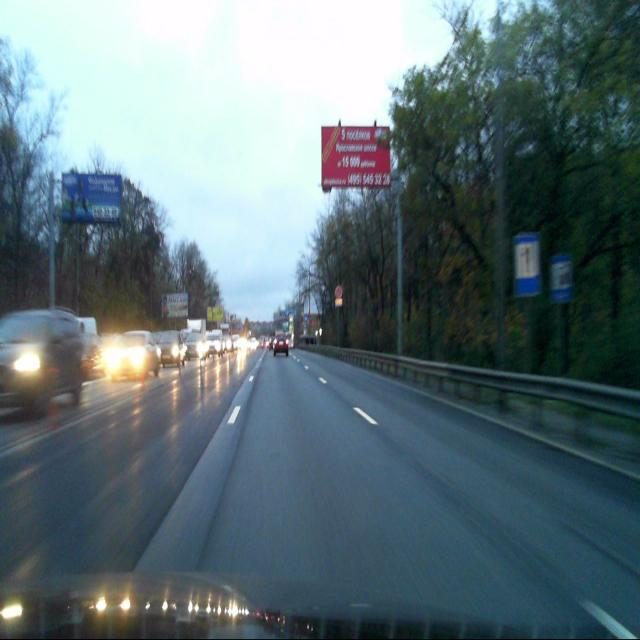road sign: (514, 232, 541, 295), (549, 255, 572, 303)
